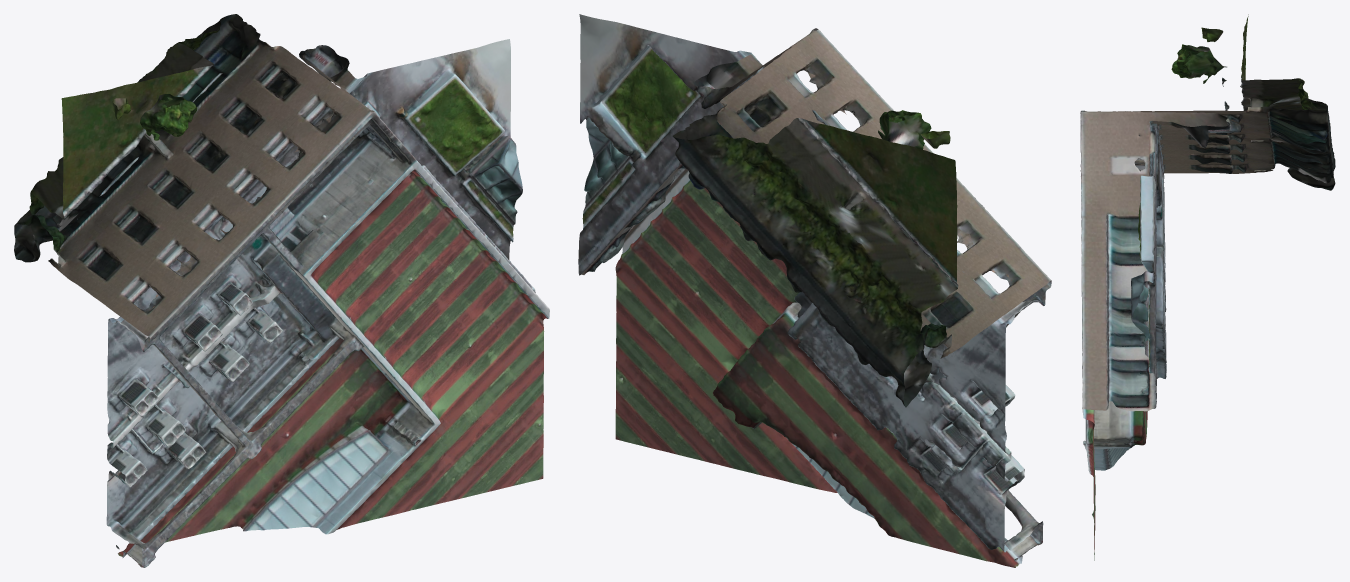
File: Tile_+013_+017.fbx
The picture shows the model from 3 angles, left to right: view 1: azimuth 30°, elevation 25°; view 2: azimuth 150°, elevation 25°; view 3: azimuth 270°, elevation 25°; orthographic projection. The views are drawn at different scales.
Visible parts, largest first — view 1: DefaultName; view 2: DefaultName; view 3: DefaultName.
Part boxes in pixels (x1,y1,x2,y2): DefaultName: [14, 14, 549, 567]; DefaultName: [578, 14, 1051, 567]; DefaultName: [1080, 14, 1335, 560].
Size of the model in its own units: 22.54 by 22.54 by 13.79.
